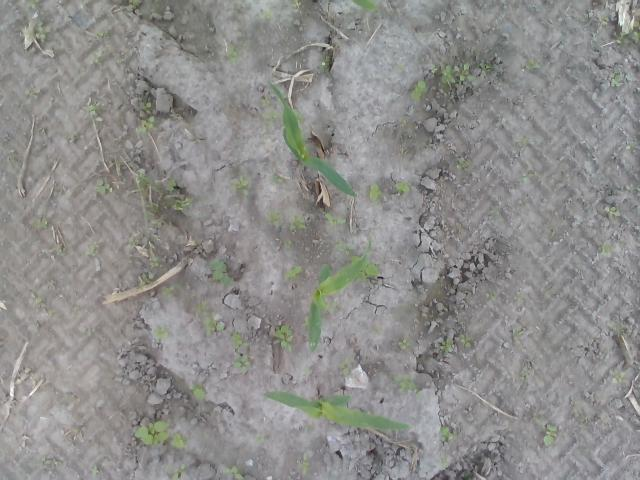Maize: (266, 78, 358, 196), (308, 240, 372, 352), (263, 389, 414, 432), (348, 0, 379, 12)
Weeds: (134, 168, 193, 220), (134, 417, 188, 448), (227, 330, 255, 376), (30, 288, 64, 320), (266, 208, 306, 232), (196, 299, 224, 333), (135, 100, 158, 136), (208, 255, 234, 286), (392, 374, 422, 400), (613, 20, 640, 48), (138, 255, 161, 286), (440, 63, 475, 83), (608, 64, 636, 89), (274, 322, 296, 352), (260, 98, 280, 128), (334, 238, 357, 262), (32, 454, 64, 469), (23, 25, 51, 42), (336, 351, 354, 377), (409, 79, 430, 101), (543, 423, 560, 447), (230, 173, 250, 193), (609, 367, 631, 385), (164, 463, 187, 480), (152, 326, 172, 344), (606, 318, 626, 336), (324, 210, 346, 226), (296, 450, 312, 472), (191, 382, 209, 400), (397, 336, 417, 352), (284, 264, 304, 280), (224, 465, 245, 480), (369, 182, 383, 204), (82, 103, 102, 118), (439, 426, 455, 444), (598, 240, 616, 256), (526, 56, 544, 72), (32, 215, 48, 232), (96, 176, 113, 192), (511, 324, 524, 344), (440, 338, 456, 354), (226, 46, 240, 64), (393, 180, 412, 193), (604, 205, 624, 217), (24, 86, 42, 99), (512, 290, 528, 304), (255, 9, 272, 22), (455, 158, 473, 170), (162, 284, 176, 299), (460, 333, 474, 348), (324, 300, 345, 310), (86, 238, 96, 258), (90, 464, 102, 480), (476, 63, 497, 72), (63, 131, 81, 141), (55, 241, 66, 257), (320, 55, 330, 72), (624, 183, 640, 193), (26, 0, 42, 9), (520, 170, 530, 184), (95, 31, 112, 39), (94, 47, 102, 64), (488, 206, 496, 222), (128, 0, 142, 9), (304, 423, 318, 432), (127, 238, 139, 248), (254, 434, 266, 444), (485, 290, 497, 300), (270, 175, 282, 184), (462, 471, 474, 480), (580, 414, 592, 423), (520, 368, 529, 380), (303, 366, 313, 376), (292, 0, 302, 10), (440, 455, 450, 465), (599, 15, 609, 25), (519, 136, 530, 145), (284, 239, 294, 248), (626, 143, 636, 152), (429, 64, 438, 73), (308, 290, 318, 298), (398, 24, 406, 34), (398, 64, 406, 72)
